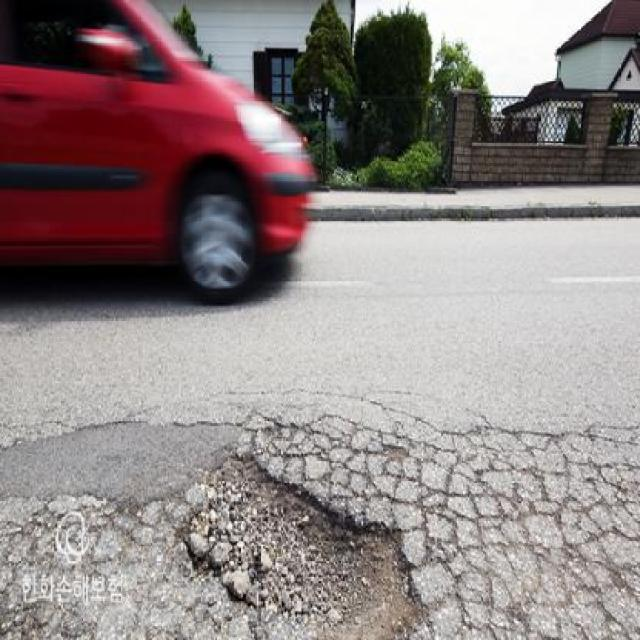Pothole: (194, 438, 428, 638)
